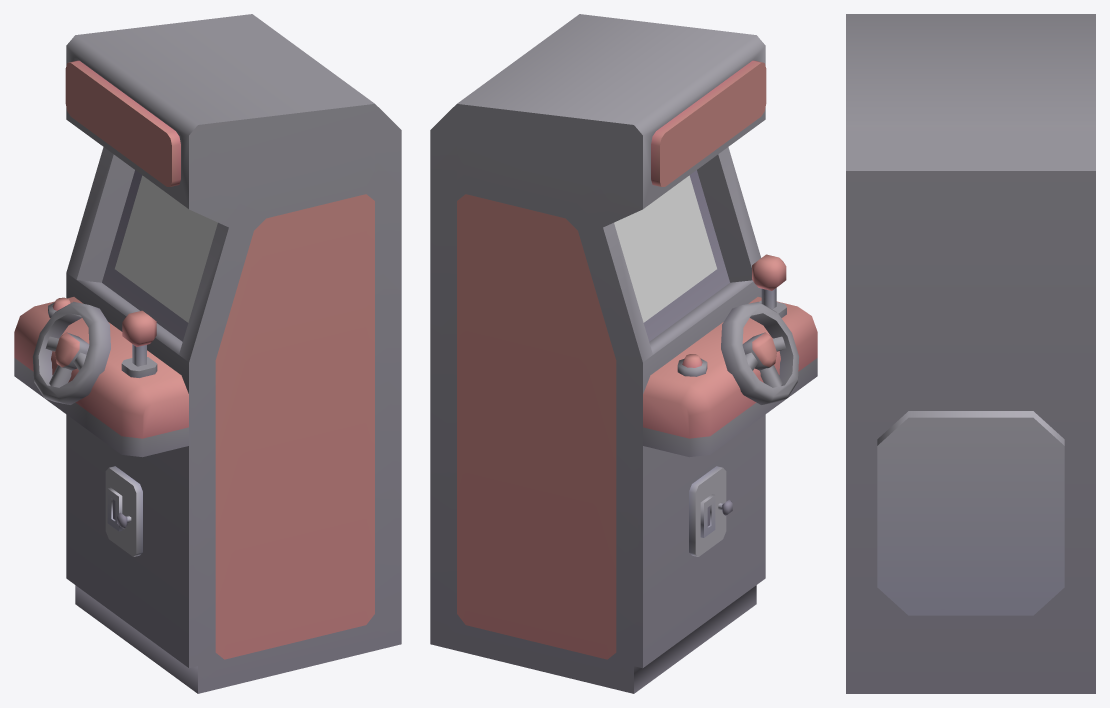
File: arcade-machine-racing.glb
3 renders of one model, left to right at view 1: azimuth 30°, elevation 25°; view 2: azimuth 150°, elevation 25°; view 3: azimuth 270°, elevation 25°, orthographic.
Parts seen in each view (by area): view 1: arcade-machine-racing; view 2: arcade-machine-racing; view 3: arcade-machine-racing.
Boxes of the visible parts, <box> form: arcade-machine-racing: <box>14,14,401,693</box>; arcade-machine-racing: <box>430,14,817,693</box>; arcade-machine-racing: <box>846,14,1095,693</box>.
Bounding box in the file's own units: 0.8761 × 1.53 × 0.6.
